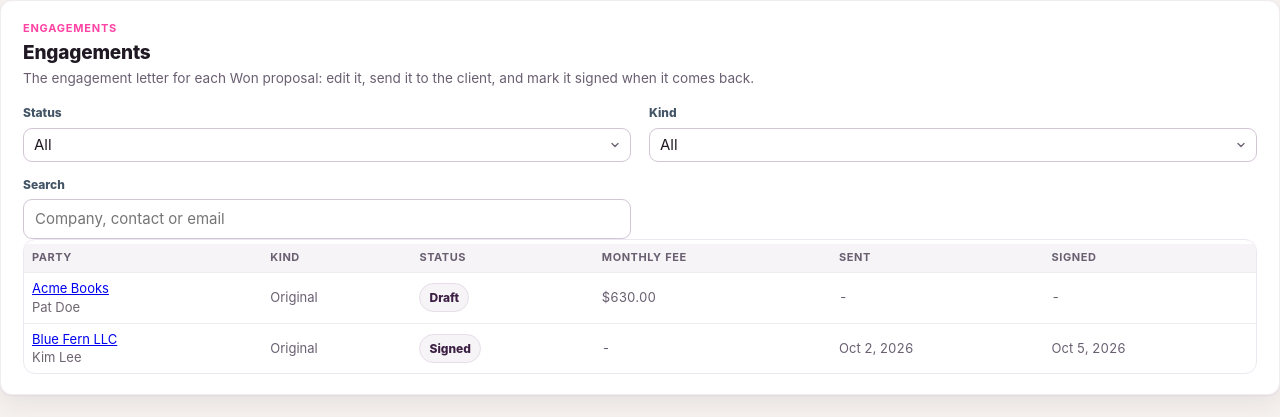
Test: the Engagements list › searches by the party: company, contact or email
Expected: the link "Acme Books" is shown, [32, 280, 109, 296]
Type "kim@" into the search field named "Search engagements".
click(327, 219); type("kim@")  # box [23, 199, 631, 239]
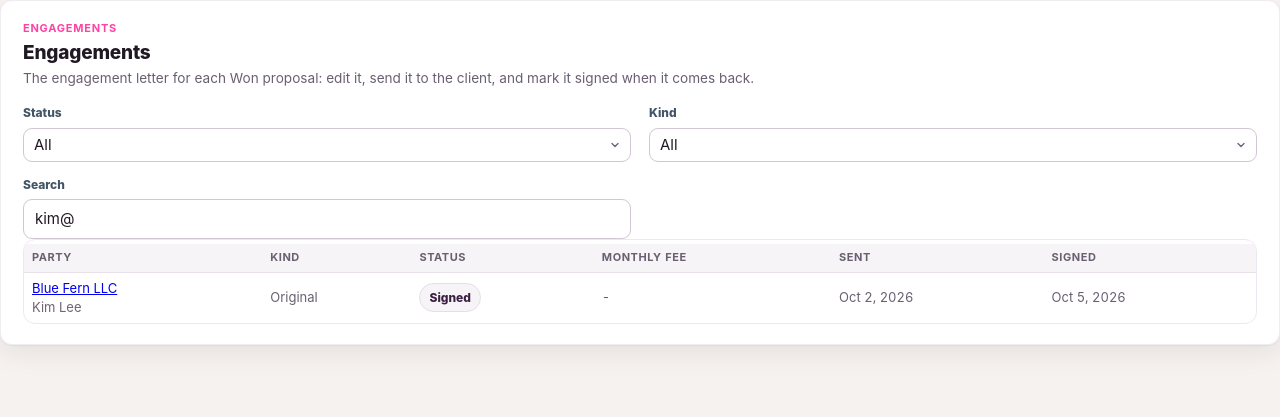
Expected: the link "Blue Fern LLC" is shown, [32, 280, 117, 296]
Expected: the link "Acme Books" is gone
Replace the text in the search field named "Search engagements" with "nobody" at (327, 219), box [23, 199, 631, 239]
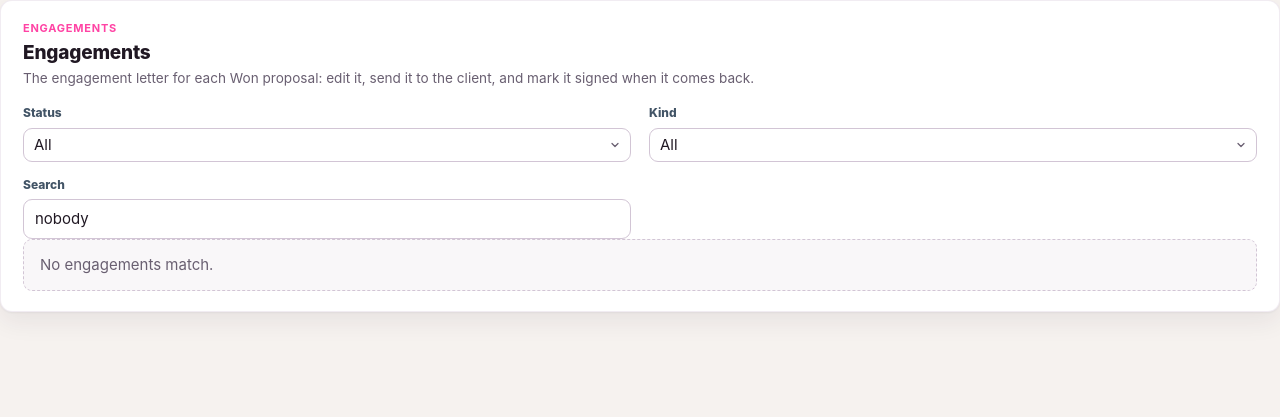
Expected: the text "No engagements match." is shown, [23, 239, 1257, 291]
